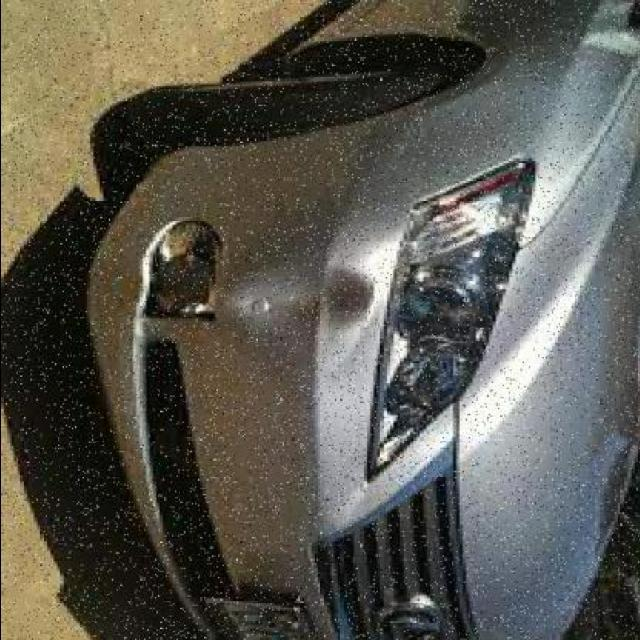front-bumper-dent: (99, 94, 399, 596)
